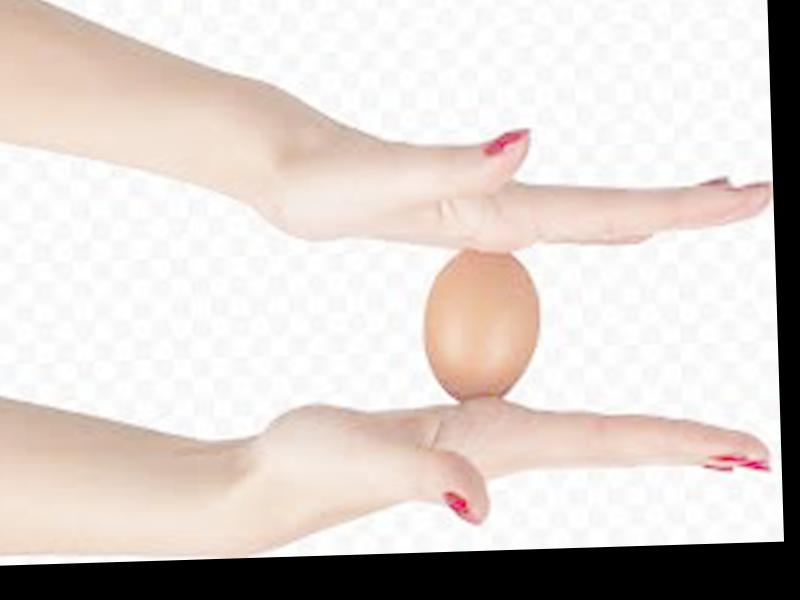Eggs: (421, 247, 538, 401)
